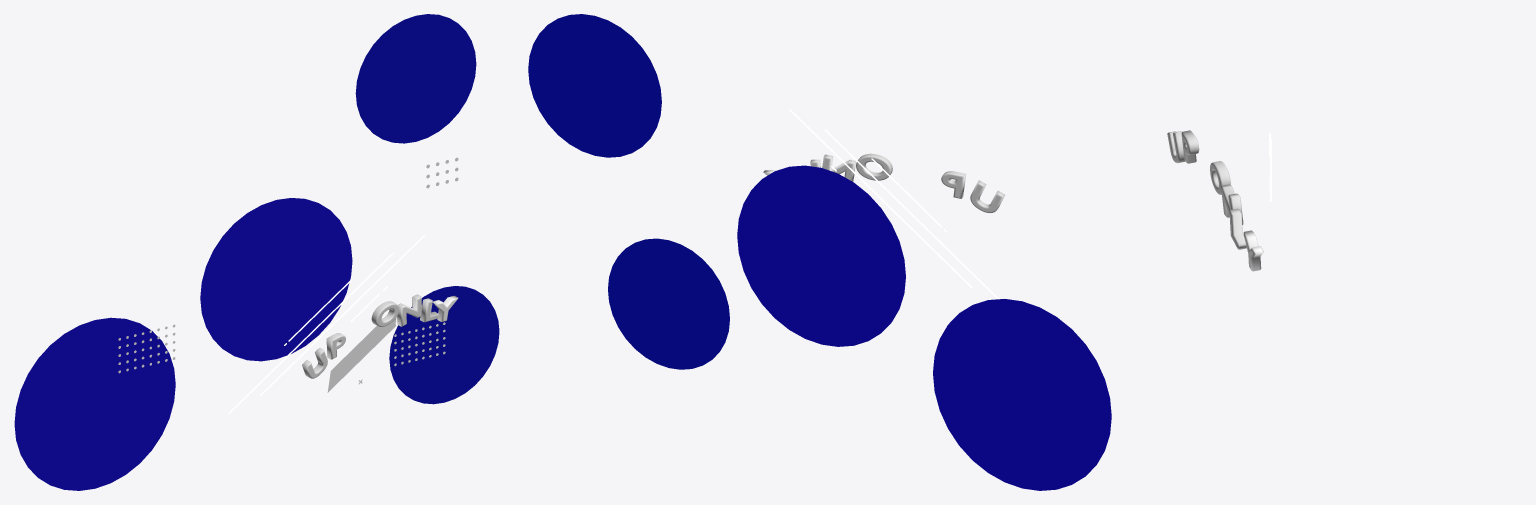
File: section_1.glb
3 renders of one model, left to right at view 1: azimuth 30°, elevation 25°; view 2: azimuth 150°, elevation 25°; view 3: azimuth 270°, elevation 25°, orthographic. The views are drawn at different scales.
Parts seen in each view (by area): view 1: Gradation_LeftBottom, grad.003, Gradation_RightTop, Gradation_RightBottom, Slash.001; view 2: Gradation_LeftBottom, grad.003, Gradation_RightTop, Gradation_RightBottom, LogoPart_3; view 3: LogoPart_6, LogoPart_5, LogoPart_3, LogoPart_4, LogoPart_2, LogoPart_1.
Part boxes in pixels (left/top/right/bottom): Gradation_LeftBottom: left=14, top=317, right=175, bottom=490; grad.003: left=200, top=198, right=352, bottom=361; Gradation_RightTop: left=355, top=14, right=476, bottom=143; Gradation_RightBottom: left=389, top=286, right=499, bottom=404; Slash.001: left=327, top=318, right=396, bottom=392; Gradation_LeftBottom: left=933, top=299, right=1111, bottom=490; grad.003: left=737, top=165, right=905, bottom=346; Gradation_RightTop: left=528, top=14, right=661, bottom=157; Gradation_RightBottom: left=608, top=238, right=729, bottom=369; LogoPart_3: left=856, top=153, right=892, bottom=180; LogoPart_6: left=1243, top=230, right=1263, bottom=271; LogoPart_5: left=1229, top=208, right=1246, bottom=249; LogoPart_3: left=1210, top=161, right=1230, bottom=194; LogoPart_4: left=1221, top=184, right=1243, bottom=224; LogoPart_2: left=1181, top=130, right=1199, bottom=163; LogoPart_1: left=1167, top=131, right=1185, bottom=163.
Bounding box in the file's own units: 19.75 × 13.88 × 9.7.
